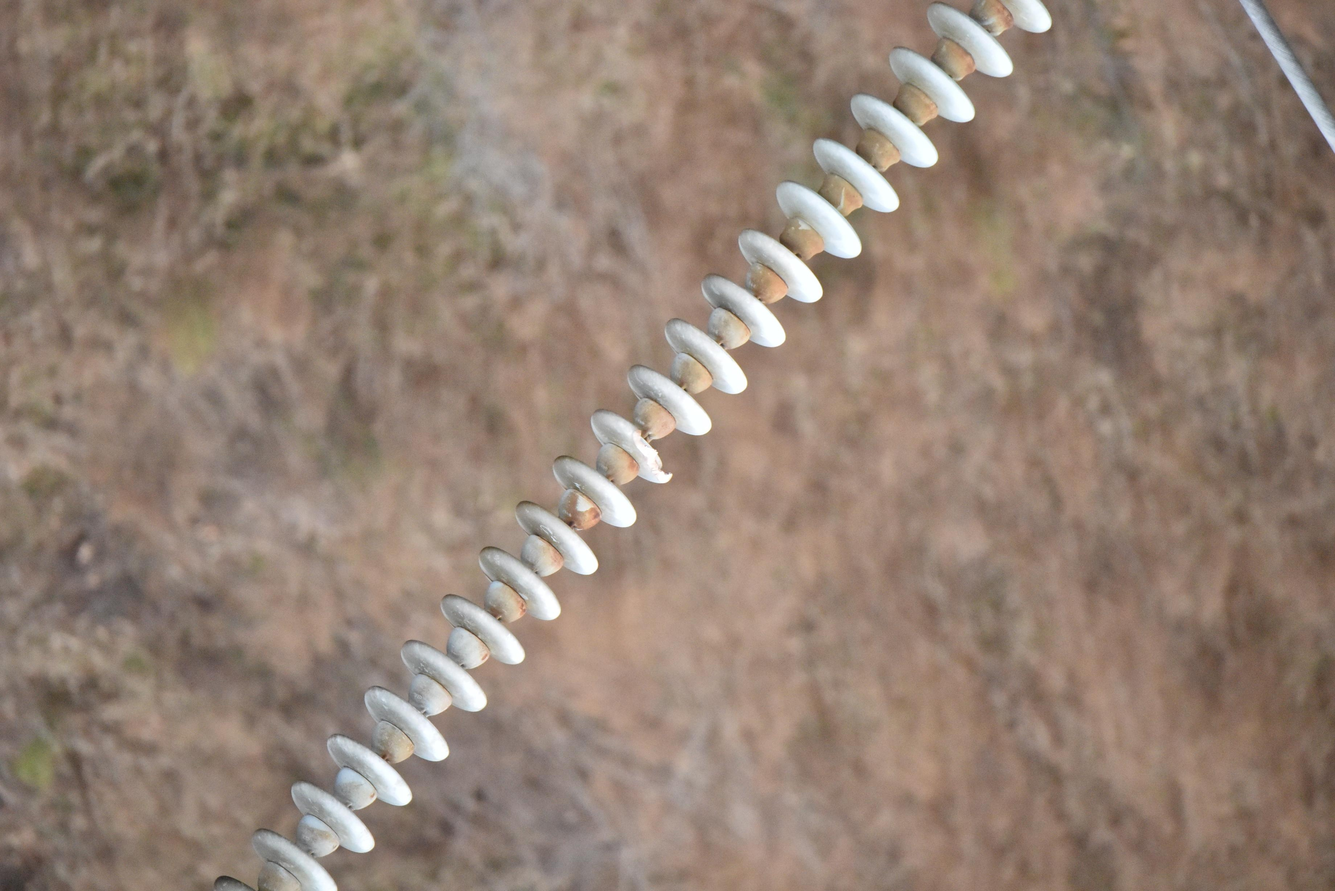damaged: (626, 422, 677, 489)
insulator: (213, 0, 1053, 891)
